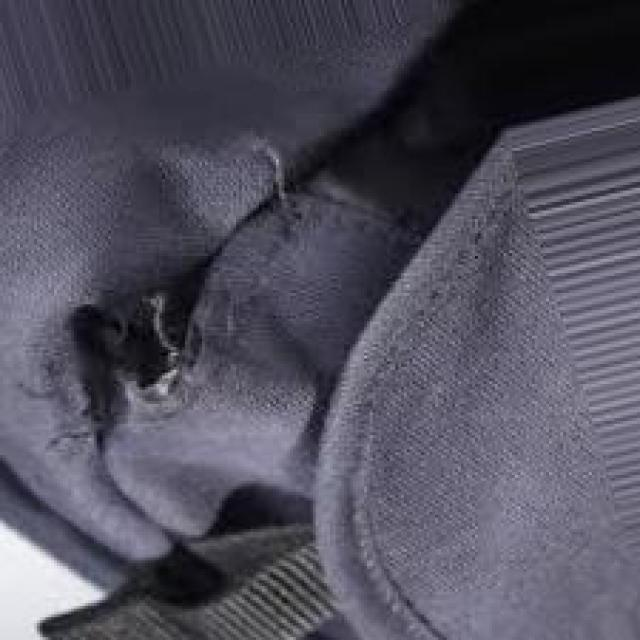Damage-bag: (69, 246, 222, 459), (232, 77, 404, 231)
